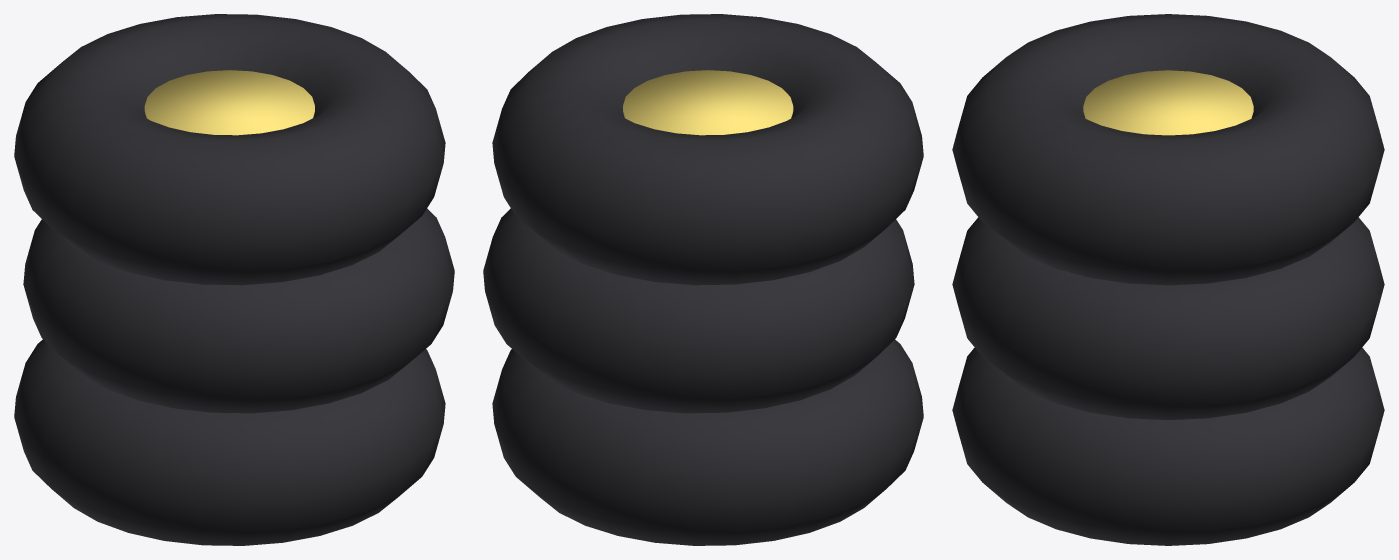
File: props.fbx
3 renders of one model, left to right at view 1: azimuth 30°, elevation 25°; view 2: azimuth 150°, elevation 25°; view 3: azimuth 270°, elevation 25°, orthographic.
Visible parts, largest first — view 1: Rubber, Yellow; view 2: Rubber, Yellow; view 3: Rubber, Yellow.
Part boxes in pixels (box(x1,y1,x2,y2)): Rubber: box(14, 14, 454, 545); Yellow: box(144, 70, 314, 135); Rubber: box(483, 14, 923, 545); Yellow: box(623, 70, 793, 135); Rubber: box(952, 14, 1384, 545); Yellow: box(1083, 70, 1253, 135).
Size of the model in its own units: 4.16 by 4.13 by 4.06.
